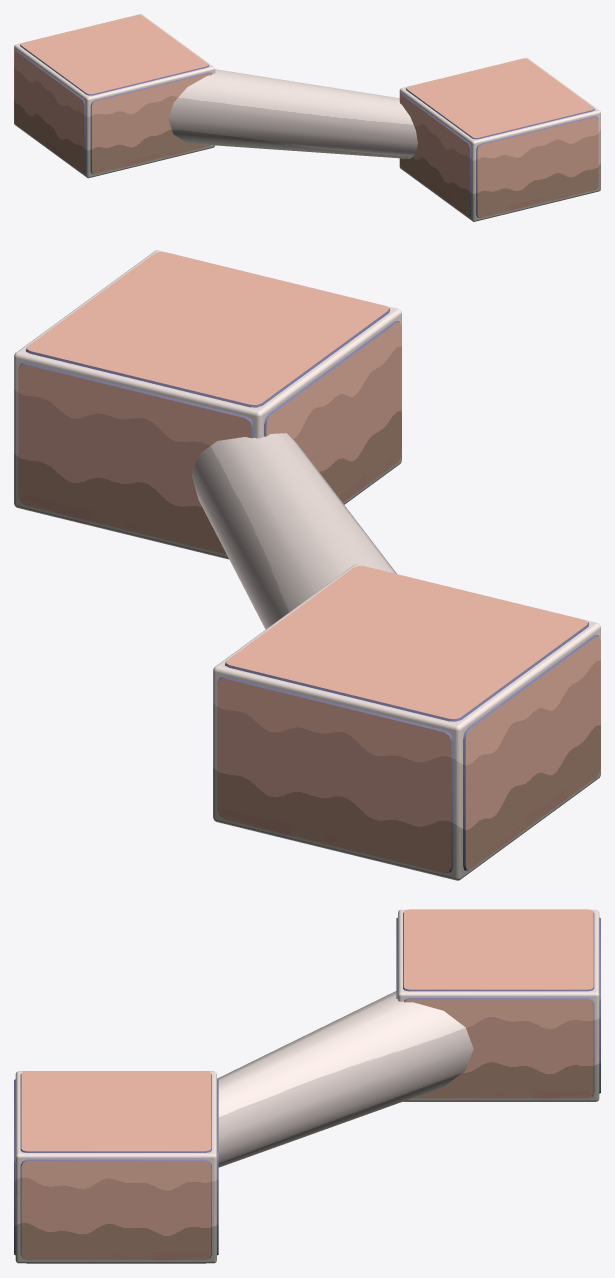
File: R4C_ROD_DIAG_2D_SHORT.glb
3 renders of one model, top to bottom at view 1: azimuth 30°, elevation 25°; view 2: azimuth 150°, elevation 25°; view 3: azimuth 270°, elevation 25°, orthographic. The views are drawn at different scales.
Visible parts, largest first — view 1: R4C_ROD_DIAG_2D_SHORT; view 2: R4C_ROD_DIAG_2D_SHORT; view 3: R4C_ROD_DIAG_2D_SHORT.
Part boxes in pixels (x1,y1,x2,y2): R4C_ROD_DIAG_2D_SHORT: (14,14,600,221); R4C_ROD_DIAG_2D_SHORT: (14,250,600,880); R4C_ROD_DIAG_2D_SHORT: (14,909,600,1263).
Size of the model in its own units: 1.07 by 0.226 by 1.07.
Materials: 3 (3 with a texture image).
